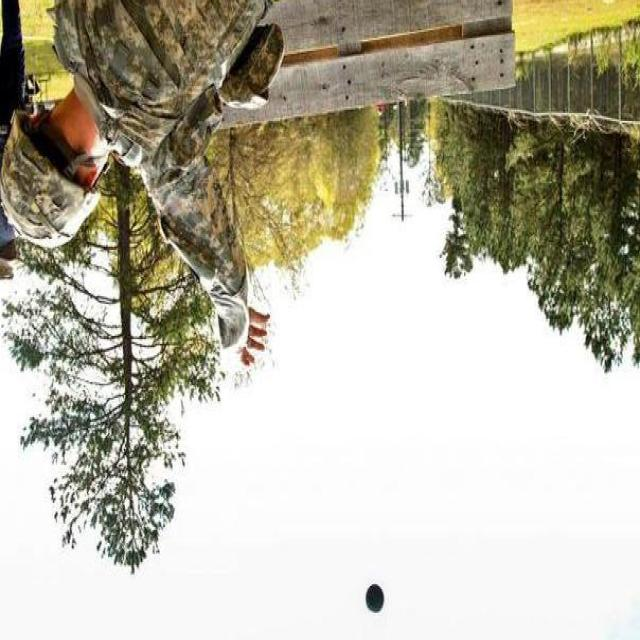grenade: (366, 580, 386, 614)
